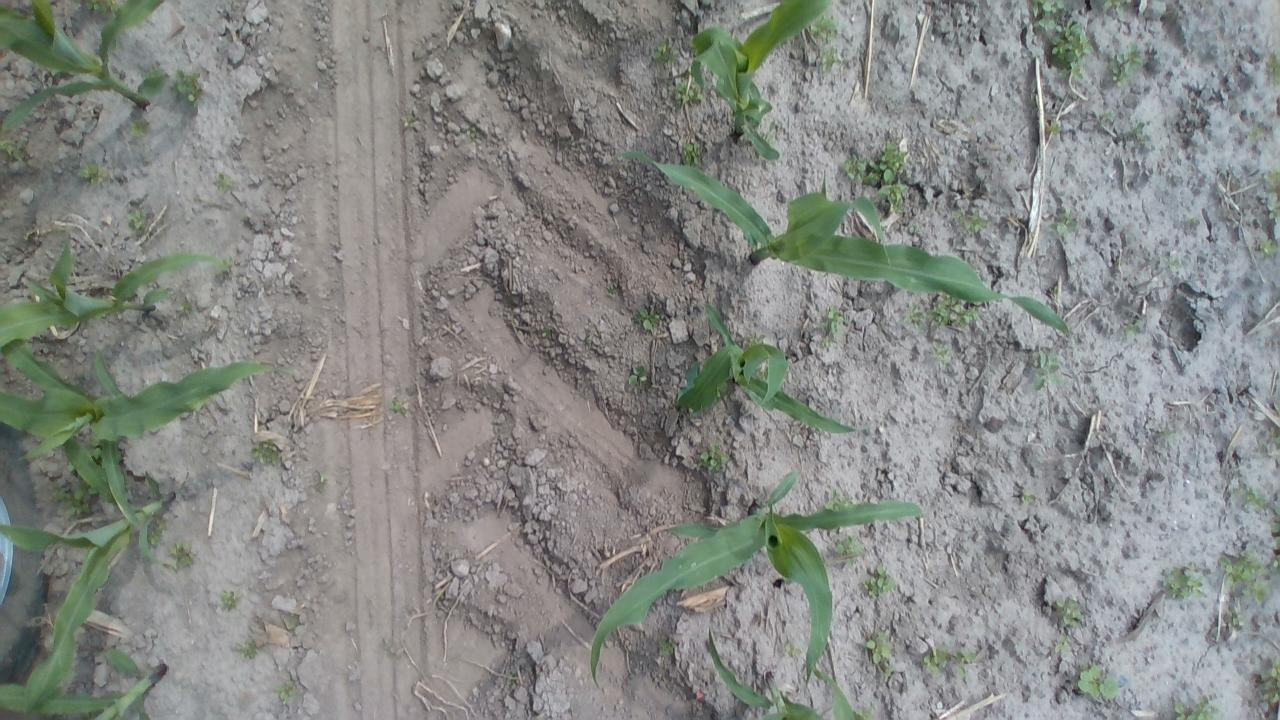Maize: (608, 159, 1102, 362), (592, 468, 929, 694), (3, 402, 173, 713), (0, 340, 293, 462), (676, 303, 866, 439), (2, 237, 230, 344), (0, 0, 169, 131), (692, 5, 821, 166), (701, 625, 870, 719), (0, 641, 169, 718)
Weeds: (1049, 15, 1093, 82), (1218, 552, 1274, 604), (49, 476, 101, 520), (928, 294, 982, 330), (1076, 660, 1122, 702), (1158, 565, 1208, 603), (1109, 42, 1145, 86), (874, 140, 906, 189), (1032, 346, 1066, 392), (171, 66, 205, 108), (862, 565, 896, 599), (1170, 696, 1219, 719), (250, 436, 286, 466), (834, 534, 866, 567), (1056, 595, 1086, 630), (671, 78, 703, 108), (865, 631, 892, 666), (700, 442, 730, 473), (811, 11, 841, 42), (949, 646, 978, 678), (819, 306, 840, 350), (166, 541, 197, 570), (879, 180, 907, 212), (1035, 0, 1068, 27), (1258, 658, 1276, 706), (126, 205, 154, 234), (1, 134, 28, 164), (922, 644, 949, 674), (652, 40, 678, 71), (634, 306, 662, 334), (76, 159, 110, 182), (953, 210, 986, 233), (818, 46, 844, 75), (232, 636, 260, 662), (656, 634, 682, 662), (904, 299, 926, 330), (823, 488, 854, 510), (1240, 485, 1268, 509), (146, 518, 167, 549), (843, 155, 868, 180), (1054, 210, 1078, 236), (680, 142, 704, 167), (218, 588, 242, 613), (628, 362, 650, 388), (144, 63, 170, 85), (1052, 633, 1075, 657), (212, 172, 235, 195), (934, 340, 954, 366), (276, 680, 298, 703), (85, 0, 118, 14), (1122, 318, 1144, 339), (215, 257, 238, 277), (782, 640, 804, 660), (1256, 236, 1276, 258), (400, 108, 420, 128), (1129, 122, 1148, 142), (1264, 166, 1277, 195), (128, 120, 150, 137), (1265, 54, 1276, 88), (1266, 428, 1278, 458), (1098, 0, 1128, 12), (386, 396, 406, 414), (283, 612, 301, 630), (174, 298, 194, 314), (1228, 608, 1244, 628), (460, 124, 480, 140), (1044, 118, 1060, 137), (314, 473, 328, 494), (1164, 255, 1182, 271), (1246, 124, 1260, 142), (1048, 284, 1062, 302), (1020, 491, 1036, 506), (540, 326, 556, 341), (1184, 212, 1198, 229), (717, 382, 730, 399), (606, 283, 620, 298), (1100, 108, 1114, 122)
